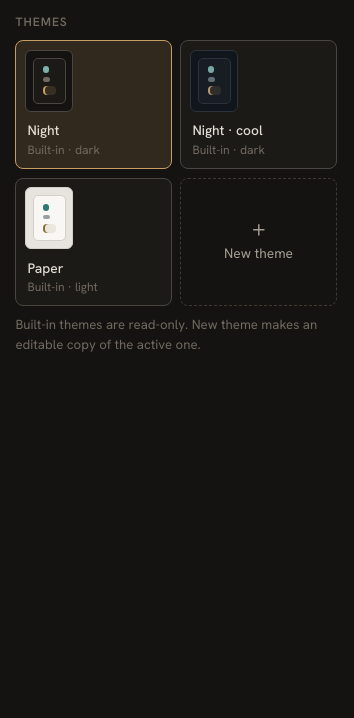
it: ThemeSection › groups the token pickers and has no background, glow, grid or vignette controls (S02)
The image size is (354, 718).
Click the button "New theme" at (258, 242), box [180,178,337,306]
(page scrolled)
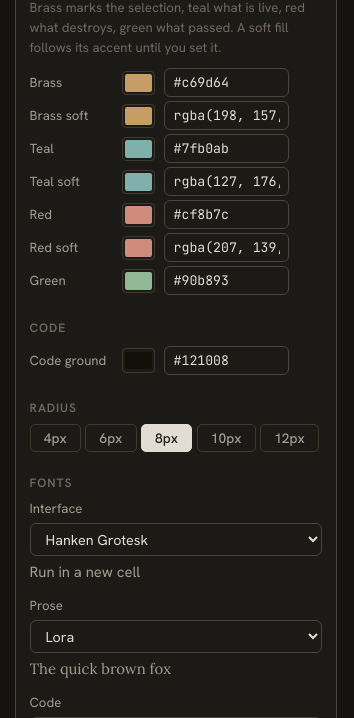
Expected: the field labelled "Brass" is shown, [164,68,290,97]
Expected: the field labelled "Brass soft" is shown, [164,101,290,130]
Expected: the field labelled "Teal" is shown, [164,134,290,163]
